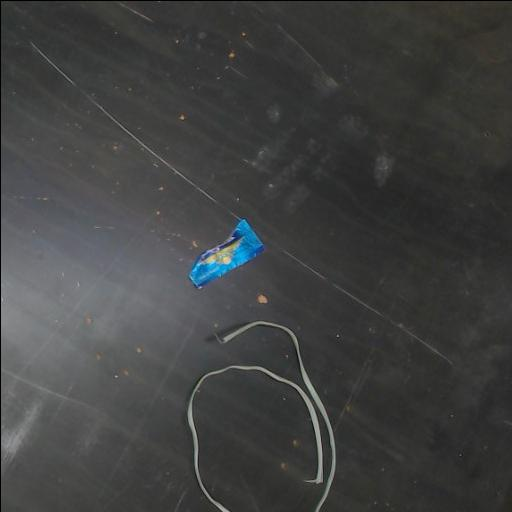cloth: (1, 1, 512, 512), (194, 373, 319, 512)
packet: (189, 219, 263, 288)
thread: (217, 320, 335, 512), (187, 364, 323, 512)
